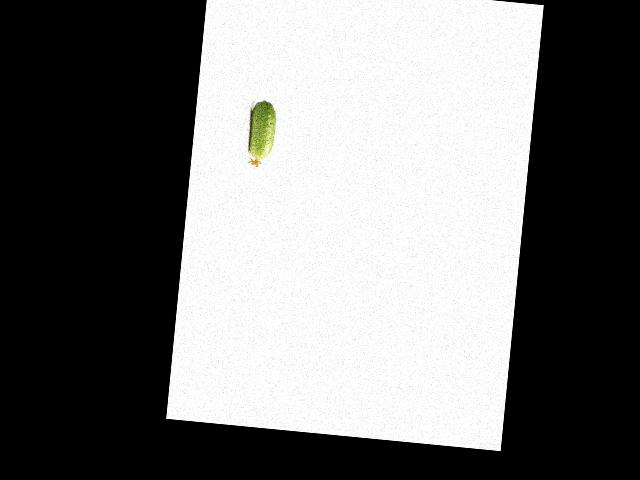cucumber: (245, 98, 277, 167)
